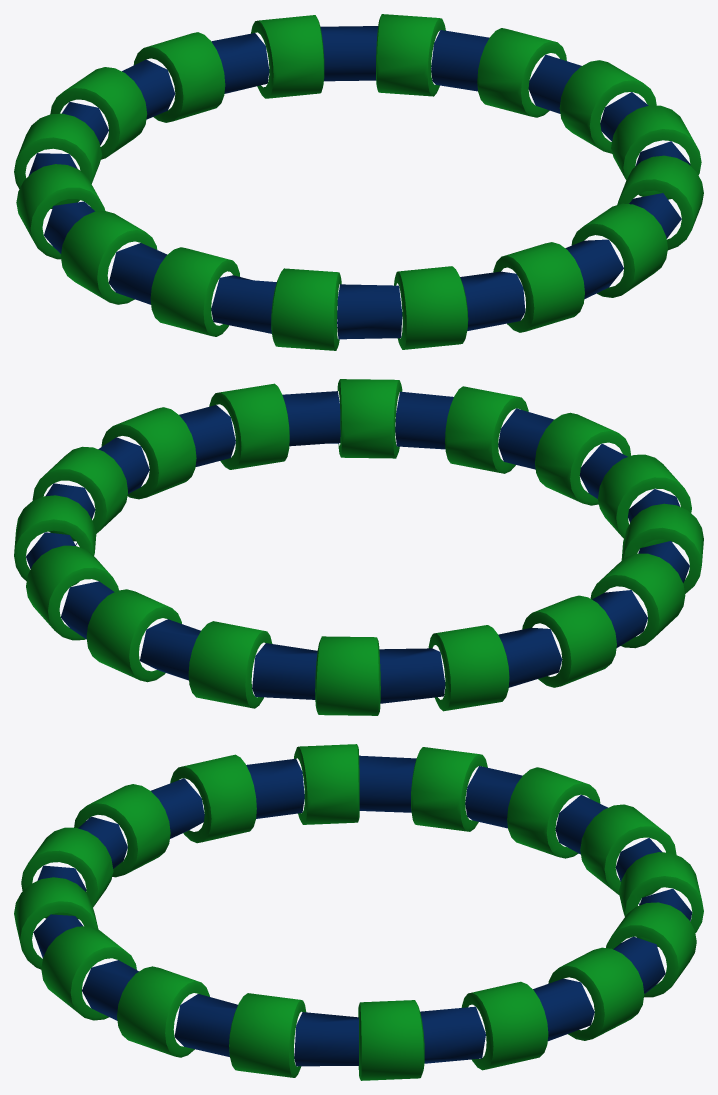
File: Ring_Hoop.glb
3 renders of one model, top to bottom at view 1: azimuth 30°, elevation 25°; view 2: azimuth 150°, elevation 25°; view 3: azimuth 270°, elevation 25°, orthographic.
Visible parts, largest first — view 1: Ring_Hoop; view 2: Ring_Hoop; view 3: Ring_Hoop.
Part boxes in pixels (x1,y1,x2,y2): Ring_Hoop: (14,14,703,350); Ring_Hoop: (14,379,703,715); Ring_Hoop: (14,744,703,1080).
Bounding box in the file's own units: 1.42 × 0.1625 × 1.42.
